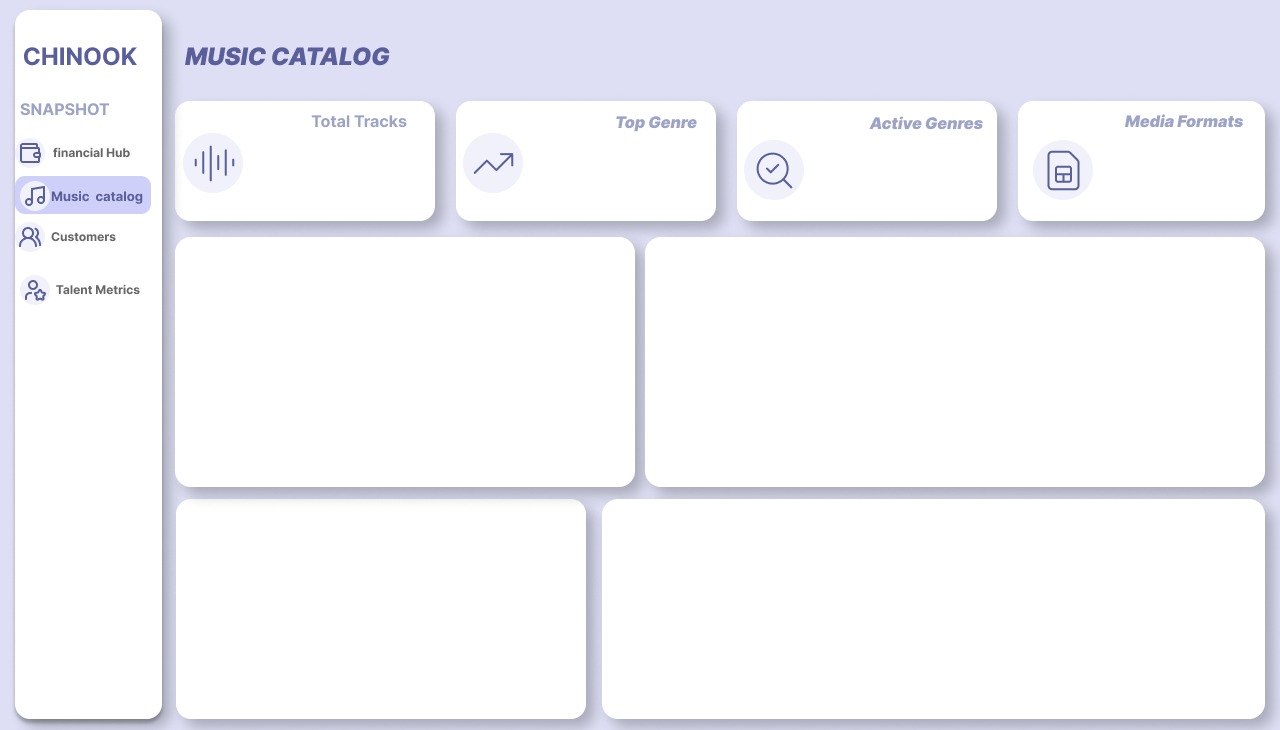

The dashboard page shown, as its layout file describes it:
{"tool":"powerbi","page":{"name":"Page 2","canvas":[1280,720],"ordinal":1},"visuals":[{"type":"cardVisual","fields":{"Data":["DAX.Total Tracks"]},"box":[265.5,115.5,161.9,88.1],"z":0},{"type":"cardVisual","fields":{"Data":["DAX.Media Formats"]},"box":[1132.1,141.7,83.3,61.9],"z":1000},{"type":"clusteredBarChart","title":" Revenue by Genre","fields":{"Category":["genre.Name"],"Y":["DAX.Genre Revenue"]},"box":[189.3,254.8,422.6,215.5],"z":2000},{"type":"columnChart","title":"Media Type Distribution","fields":{"Category":["mediatype.Name"],"Y":["DAX.Total Tracks Sold"]},"box":[189.3,528.6,390.5,182.1],"z":4000},{"type":"textbox","box":[297.6,507.1,194,50],"z":5000},{"type":"tableEx","fields":{"Values":["genre.Name","DAX.Total Revenue","DAX.Revenue Share %"]},"box":[640.5,276.2,602.4,197.6],"z":6000},{"type":"cardVisual","fields":{"Data":["DAX.Active Genres"]},"box":[852.4,115.5,127.4,89.3],"z":7000},{"type":"cardVisual","fields":{"Data":["DAX.Top Genre"]},"box":[558.3,115.5,141.7,88.1],"z":8000},{"type":"columnChart","title":"Top Albums by Track Count","fields":{"Category":["album.Title"],"Y":["DAX.Total Tracks"]},"box":[650,532.1,592.9,178.6],"z":9000},{"type":"textbox","box":[831,232.1,270.2,44],"z":10000},{"type":"textbox","box":[837.3,506.7,223.2,44.6],"z":11000},{"type":"slicer","fields":{"Values":["genre.Name"]},"box":[1059.5,16.7,169,66.7],"z":12000}]}

Visuals, with their boxes on the page's 1280x720 design canvas (x1, y1, x2, y2). These are canvas units, not pixel positions in the 1280x730 screenshot, which may show the page scaled, cropped or inside an application window:
cardVisual - DAX.Total Tracks: detection(266, 116, 427, 204)
cardVisual - DAX.Media Formats: detection(1132, 142, 1215, 204)
" Revenue by Genre" clusteredBarChart: detection(189, 255, 612, 470)
"Media Type Distribution" columnChart: detection(189, 529, 580, 711)
textbox: detection(298, 507, 492, 557)
tableEx - genre.Name x DAX.Total Revenue: detection(640, 276, 1243, 474)
cardVisual - DAX.Active Genres: detection(852, 116, 980, 205)
cardVisual - DAX.Top Genre: detection(558, 116, 700, 204)
"Top Albums by Track Count" columnChart: detection(650, 532, 1243, 711)
textbox: detection(831, 232, 1101, 276)
textbox: detection(837, 507, 1060, 551)
slicer - genre.Name: detection(1060, 17, 1228, 83)
